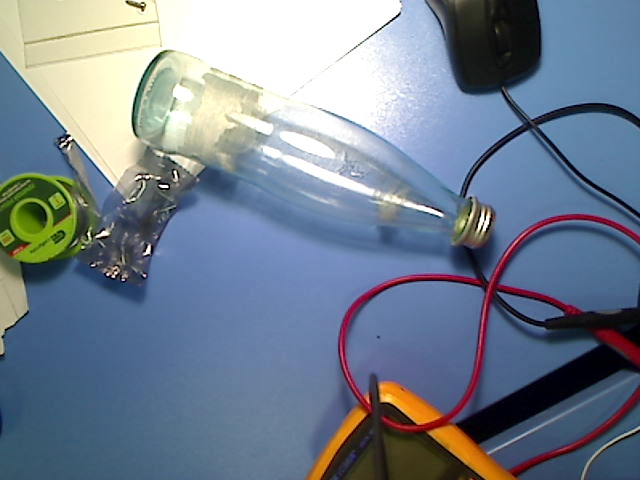bottle: (130, 47, 500, 252)
